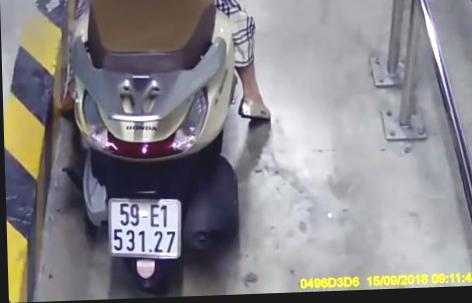License_Plate: (99, 191, 190, 267)
